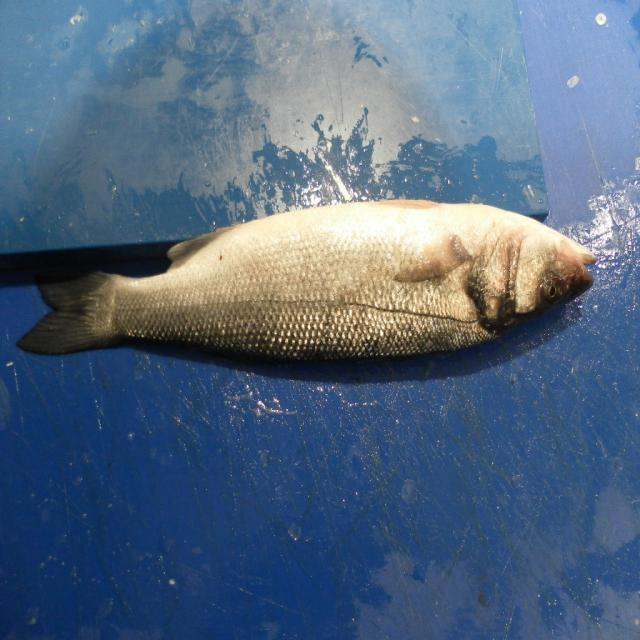Sea-Bass-levrek-: (8, 199, 596, 365)
